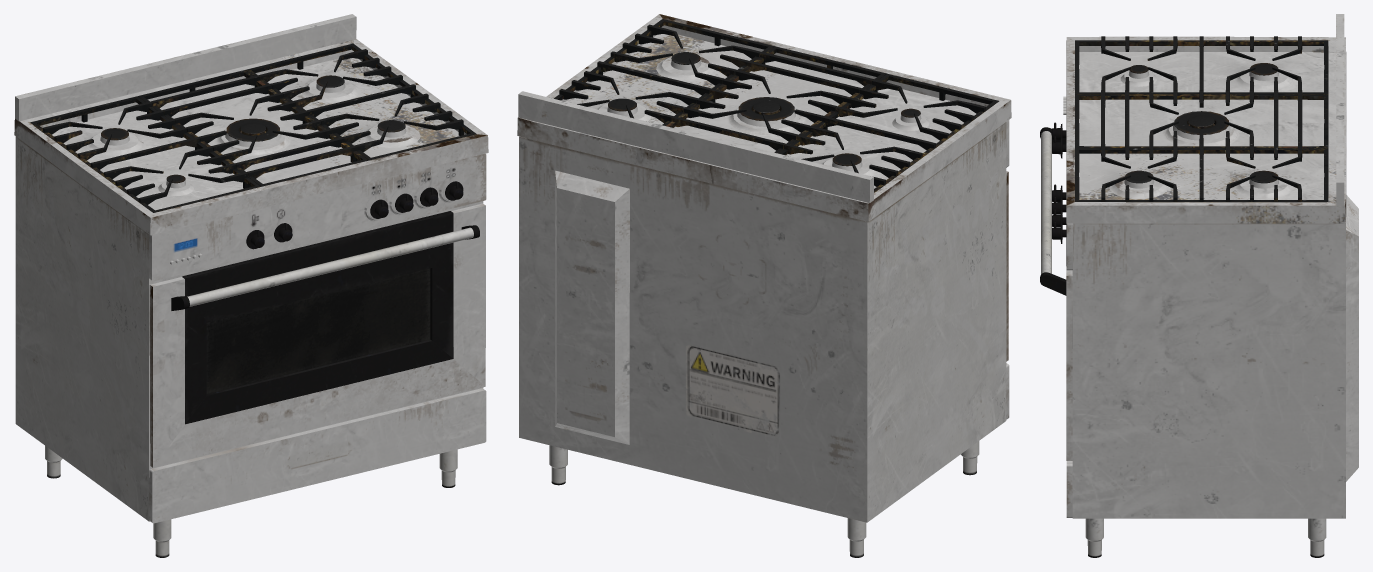
Rendered from Prop_Gas_Stove.fbx.
3 renders of one model, left to right at view 1: azimuth 30°, elevation 25°; view 2: azimuth 150°, elevation 25°; view 3: azimuth 270°, elevation 25°, orthographic. The views are drawn at different scales.
Parts seen in each view (by area): view 1: Prop_Stove, Prop_Stove_Shutter, Prop_Stove_Shutter_Glass; view 2: Prop_Stove; view 3: Prop_Stove, Prop_Stove_Shutter.
Part boxes in pixels (x1,y1,x2,y2): Prop_Stove: (14, 14, 488, 557); Prop_Stove_Shutter: (149, 203, 485, 467); Prop_Stove_Shutter_Glass: (206, 268, 430, 393); Prop_Stove: (517, 14, 1011, 557); Prop_Stove: (1052, 14, 1358, 557); Prop_Stove_Shutter: (1040, 127, 1072, 460).
Bounding box in the file's own units: 45.37 × 48.13 × 36.12.
